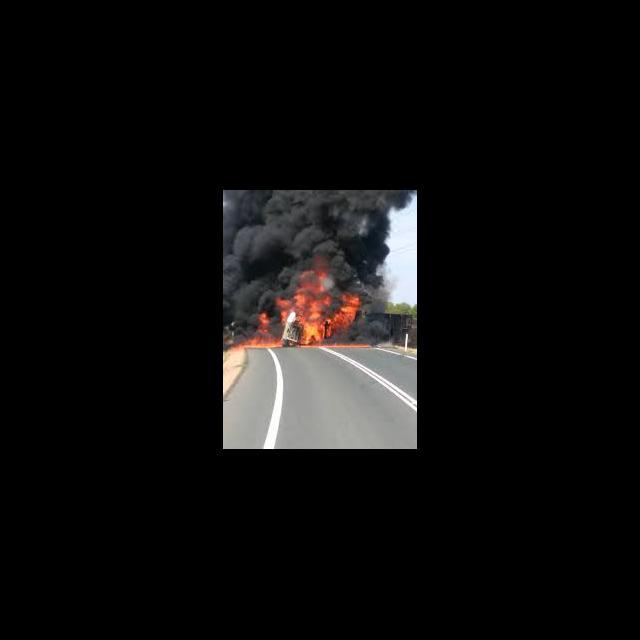Fire: (250, 263, 372, 350)
Smoke: (223, 190, 386, 260), (223, 262, 249, 326)
